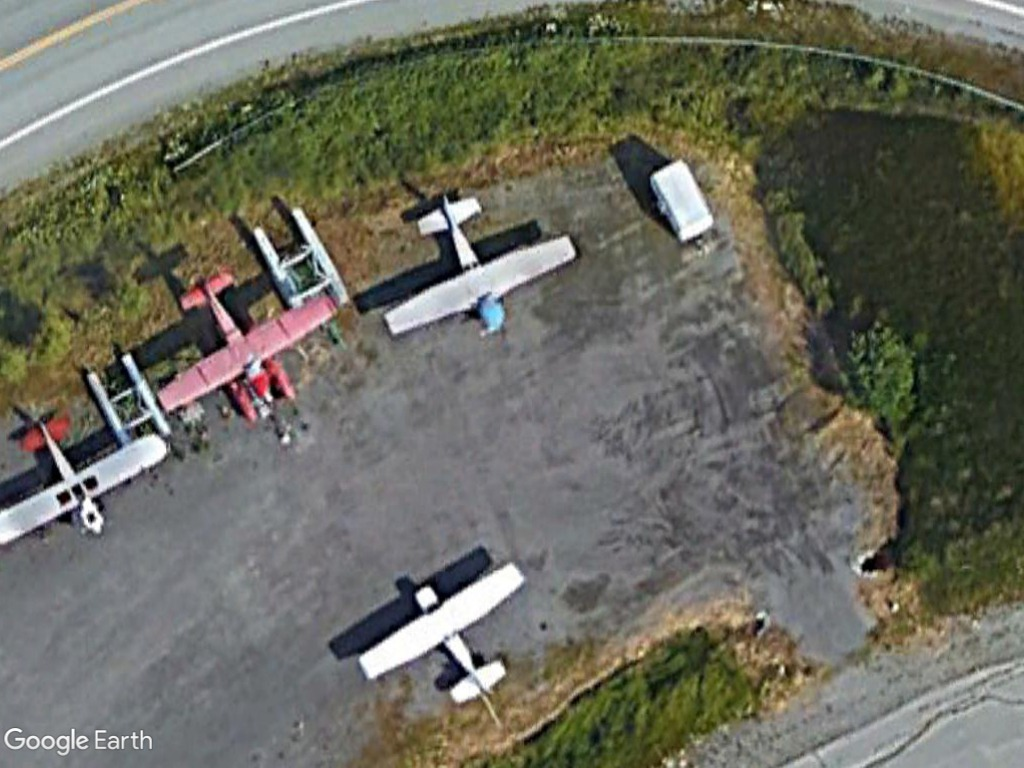trainer: (148, 272, 342, 429), (370, 194, 581, 338), (356, 558, 534, 707)
